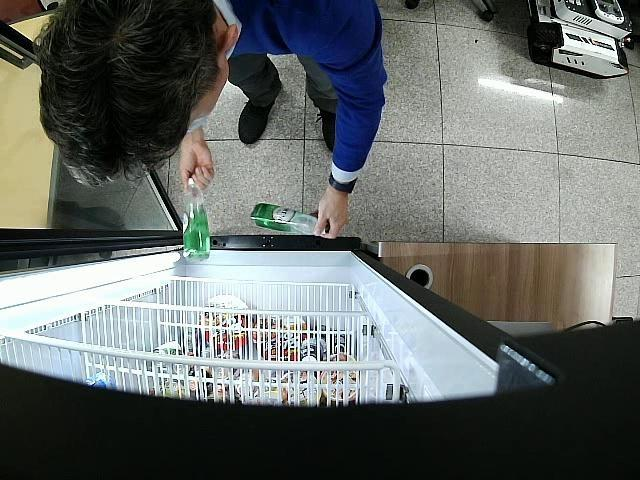18_trevi: (183, 178, 212, 262), (252, 203, 326, 234)
